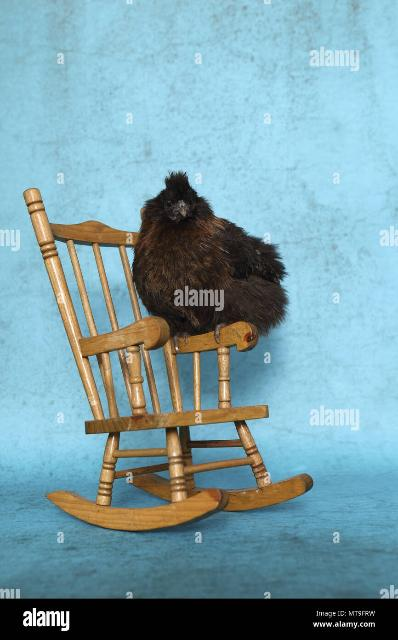Chicken: (129, 169, 289, 342)
